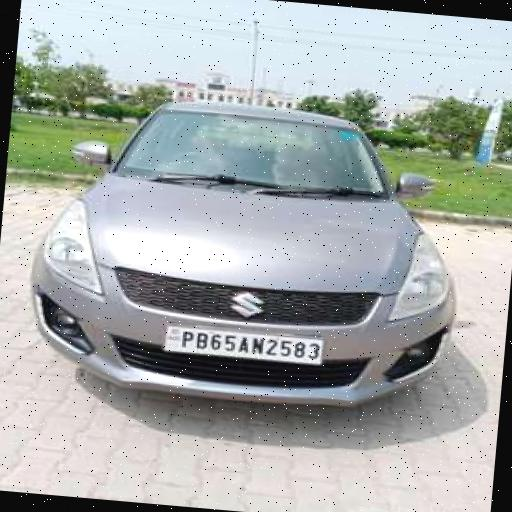license_plate`: (161, 322, 323, 363)
